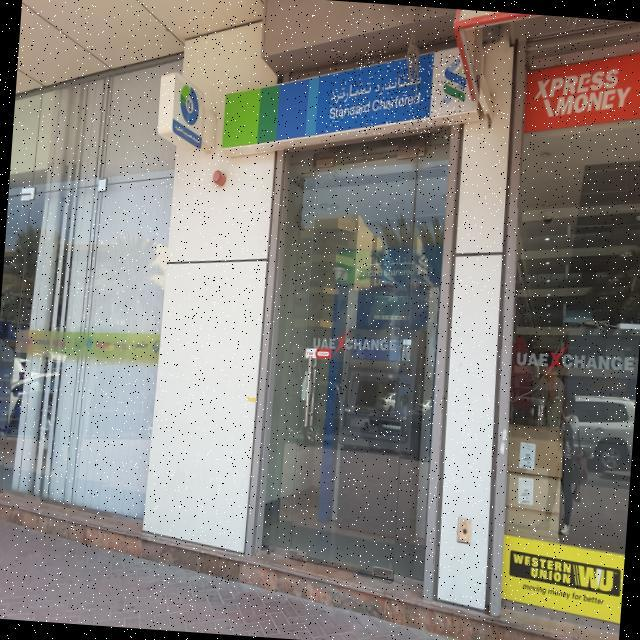Standard Chartered: (325, 48, 468, 141)
